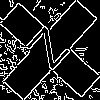Z: (25, 25, 79, 78)
